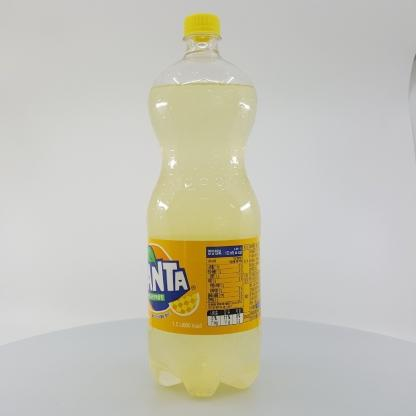--------1-5L: (146, 13, 262, 397)
